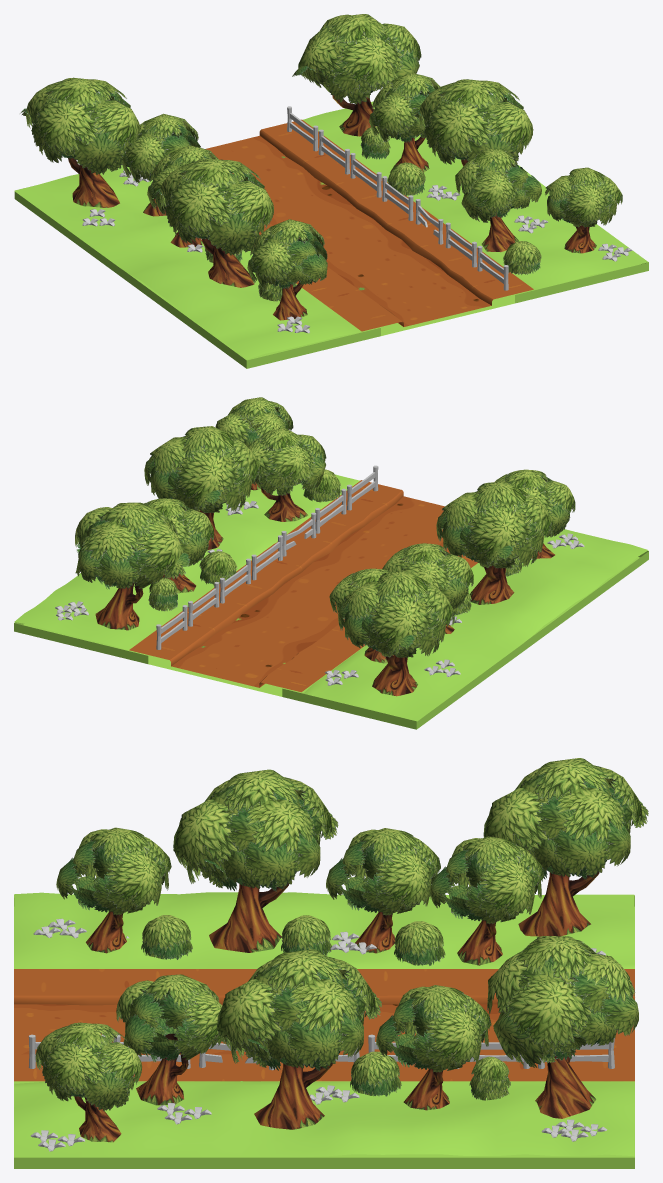
The model's file is Forestchunk1.fbx.
The picture shows the model from 3 angles, top to bottom: view 1: azimuth 30°, elevation 25°; view 2: azimuth 150°, elevation 25°; view 3: azimuth 270°, elevation 25°; orthographic projection. The views are drawn at different scales.
Visible parts, largest first — view 1: road_I_2.042, Plane.021, road_I_2.084, BOSQUELOWPOLY.016, BOSQUELOWPOLY.114, BOSQUELOWPOLY.018, BOSQUELOWPOLY.002, road_I_2.070, Cube.021, BOSQUELOWPOLY.031, BOSQUELOWPOLY.003, BOSQUELOWPOLY.066 (+9 smaller); view 2: road_I_2.042, Plane.021, road_I_2.084, BOSQUELOWPOLY.018, BOSQUELOWPOLY.016, BOSQUELOWPOLY.114, BOSQUELOWPOLY.002, road_I_2.070, Cube.021, BOSQUELOWPOLY.031, WoodFence2, BOSQUELOWPOLY.004 (+9 smaller); view 3: road_I_2.084, road_I_2.042, BOSQUELOWPOLY.114, BOSQUELOWPOLY.002, BOSQUELOWPOLY.018, BOSQUELOWPOLY.016, BOSQUELOWPOLY.031, BOSQUELOWPOLY.005, Cube.021, BOSQUELOWPOLY.001, BOSQUELOWPOLY.003, BOSQUELOWPOLY.004 (+11 smaller).
Part boxes in pixels (x1,y1,x2,y2): road_I_2.042: (14, 165, 361, 359); Plane.021: (205, 135, 491, 326); road_I_2.084: (303, 101, 648, 290); BOSQUELOWPOLY.016: (20, 77, 140, 207); BOSQUELOWPOLY.114: (153, 158, 273, 287); BOSQUELOWPOLY.018: (292, 14, 421, 136); BOSQUELOWPOLY.002: (412, 79, 533, 166); road_I_2.070: (261, 119, 533, 299); Cube.021: (14, 185, 648, 368); BOSQUELOWPOLY.031: (455, 148, 541, 252); BOSQUELOWPOLY.003: (247, 219, 327, 320); BOSQUELOWPOLY.066: (545, 167, 622, 253); road_I_2.042: (304, 529, 648, 721); Plane.021: (171, 496, 444, 687); road_I_2.084: (14, 474, 359, 650); BOSQUELOWPOLY.018: (75, 502, 189, 630); BOSQUELOWPOLY.016: (338, 570, 454, 696); BOSQUELOWPOLY.114: (436, 481, 552, 604); BOSQUELOWPOLY.002: (144, 426, 260, 550); road_I_2.070: (129, 480, 401, 659); Cube.021: (14, 551, 648, 729); BOSQUELOWPOLY.031: (247, 428, 326, 521); WoodFence2: (156, 465, 378, 649); BOSQUELOWPOLY.004: (382, 543, 473, 633); road_I_2.084: (14, 1081, 634, 1157); road_I_2.042: (14, 892, 634, 968); BOSQUELOWPOLY.114: (173, 769, 338, 952); BOSQUELOWPOLY.002: (217, 949, 381, 1129); BOSQUELOWPOLY.018: (487, 936, 638, 1118); BOSQUELOWPOLY.016: (483, 758, 648, 936); BOSQUELOWPOLY.031: (116, 974, 222, 1105); BOSQUELOWPOLY.005: (429, 836, 544, 965); Cube.021: (14, 895, 634, 1168); BOSQUELOWPOLY.001: (376, 985, 491, 1110); BOSQUELOWPOLY.003: (56, 827, 171, 953); BOSQUELOWPOLY.004: (326, 828, 440, 953).
Size of the model in its own units: 10108 by 3002 by 10230.
